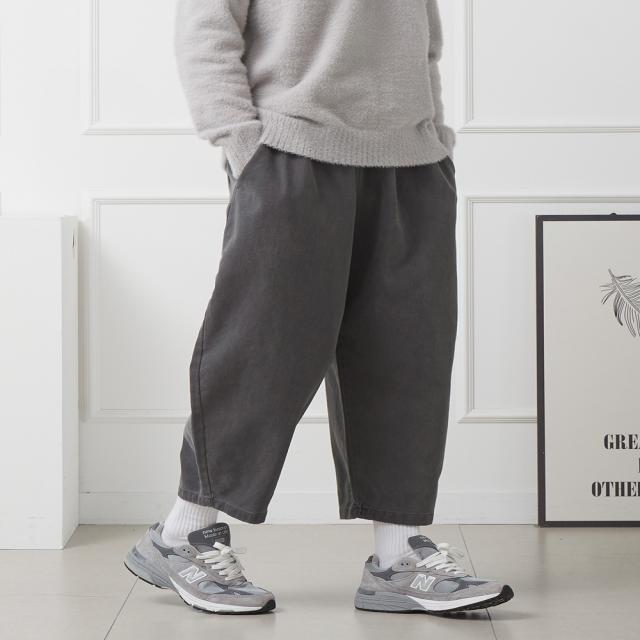pants: (176, 124, 460, 523)
